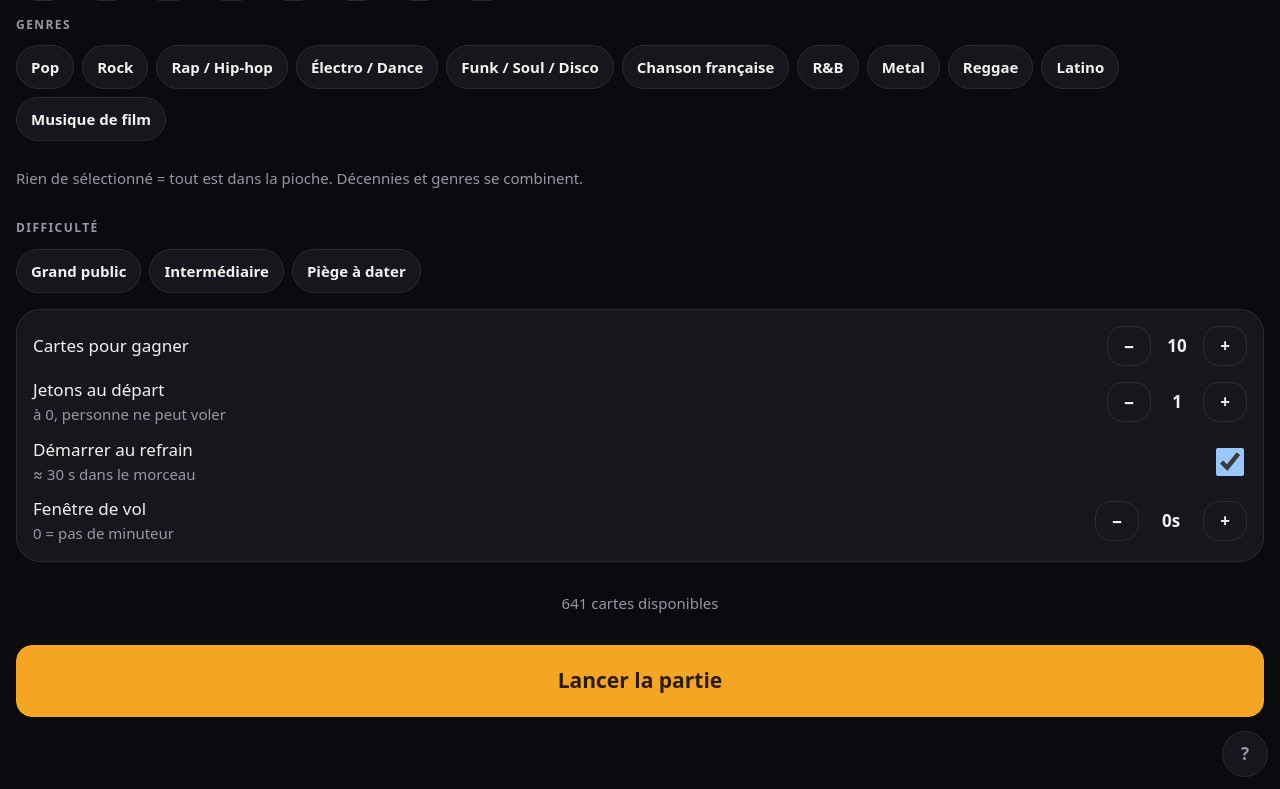
Test: a game, played through the UI › starts the music on the draw, and lets it be paused
(page scrolled)
Click the button "Lancer la partie" at (640, 681), box left=16, top=645, right=1264, bottom=717
(page scrolled)
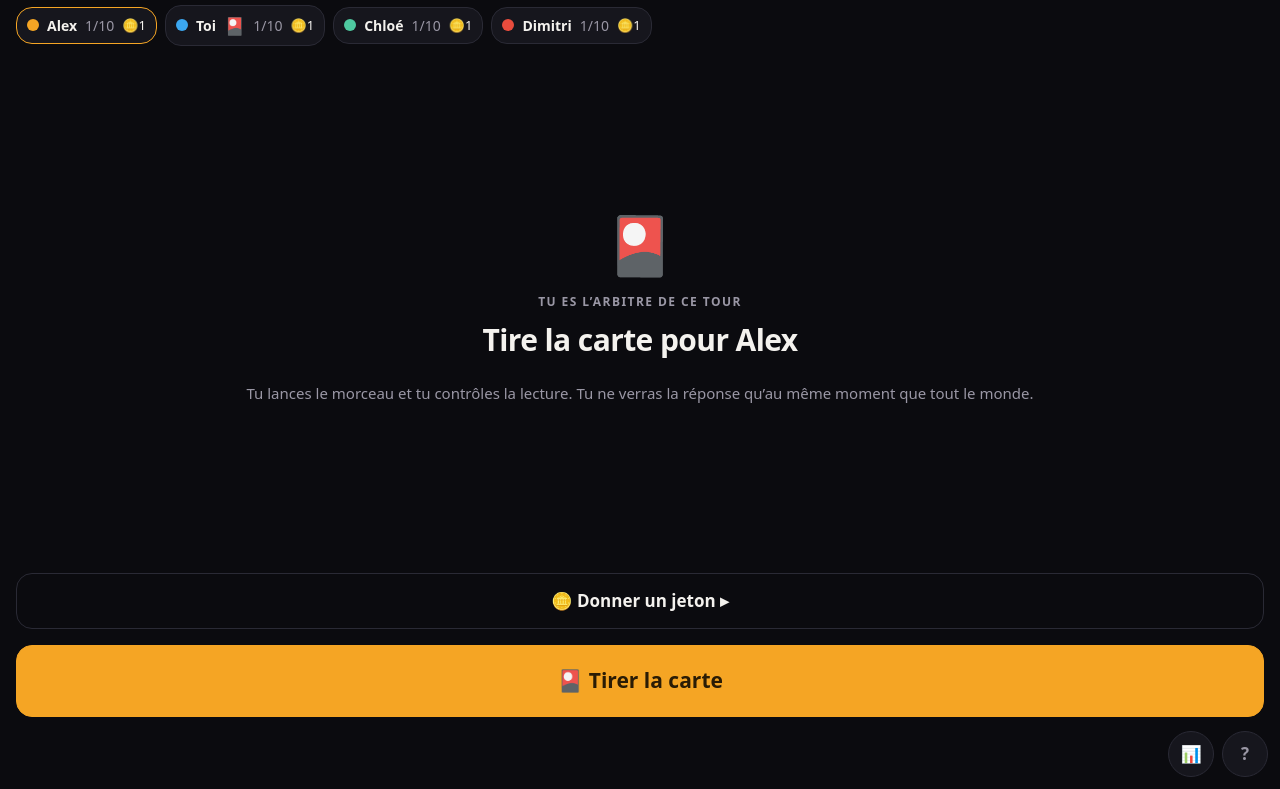
Expected: the button "Pause" is not shown
Click the button "🎴 Tirer la carte" at (640, 681), box left=16, top=645, right=1264, bottom=717
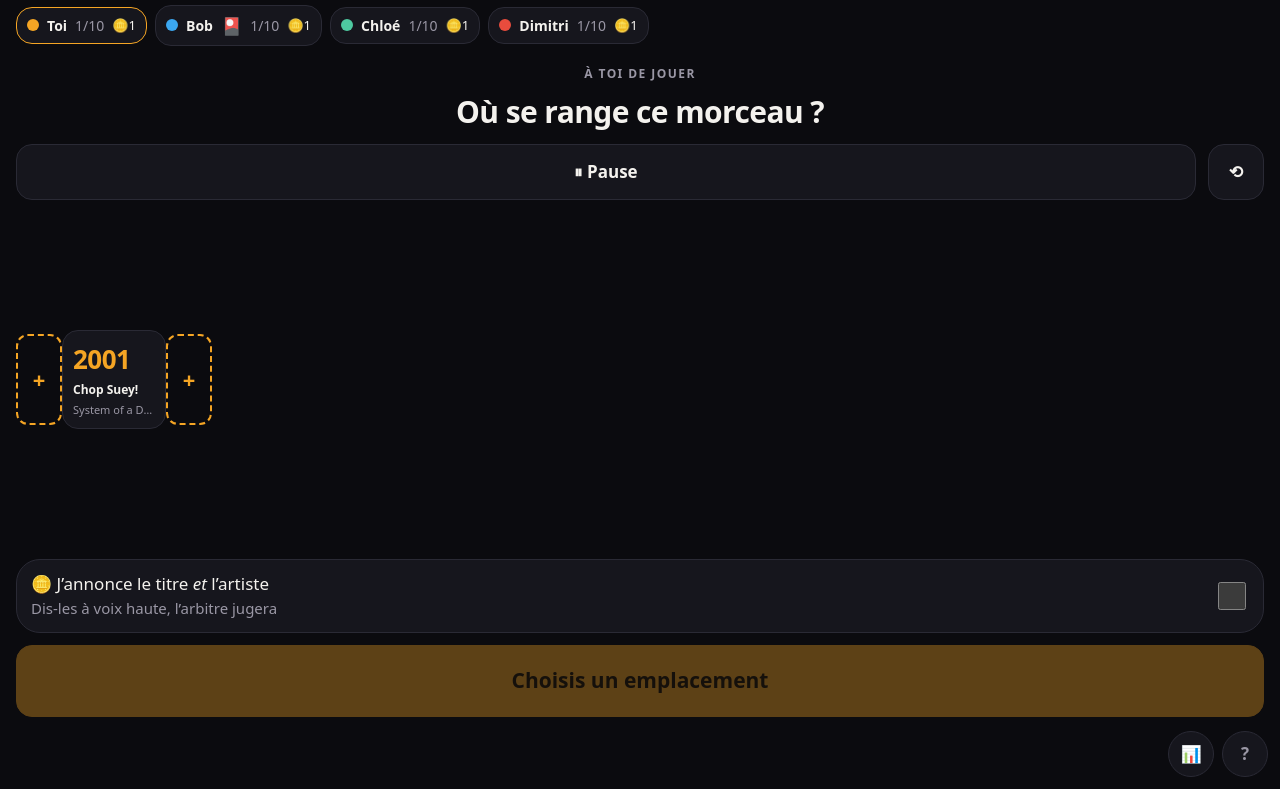
Click the button "⏸ Pause" at (606, 172), box left=16, top=144, right=1196, bottom=200
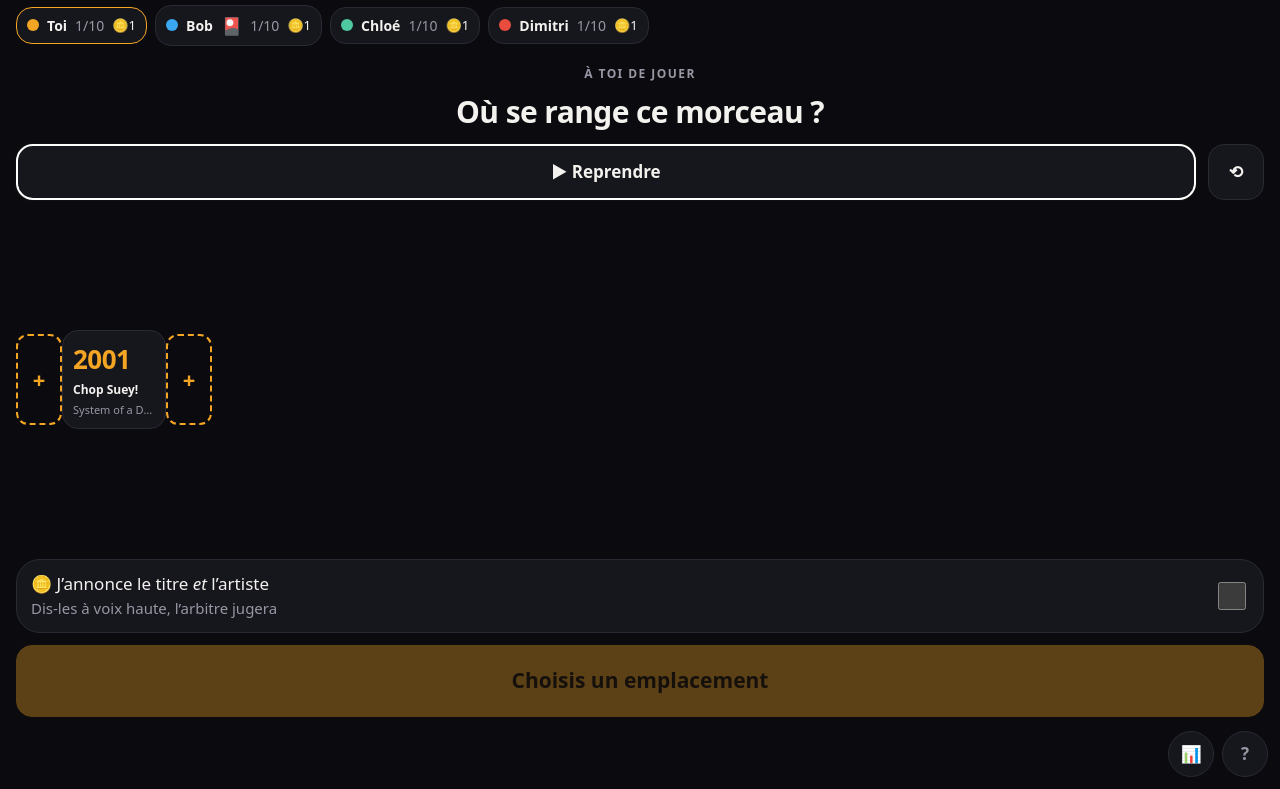
Result: the button "▶︎ Reprendre" is shown at left=16, top=144, right=1196, bottom=200
